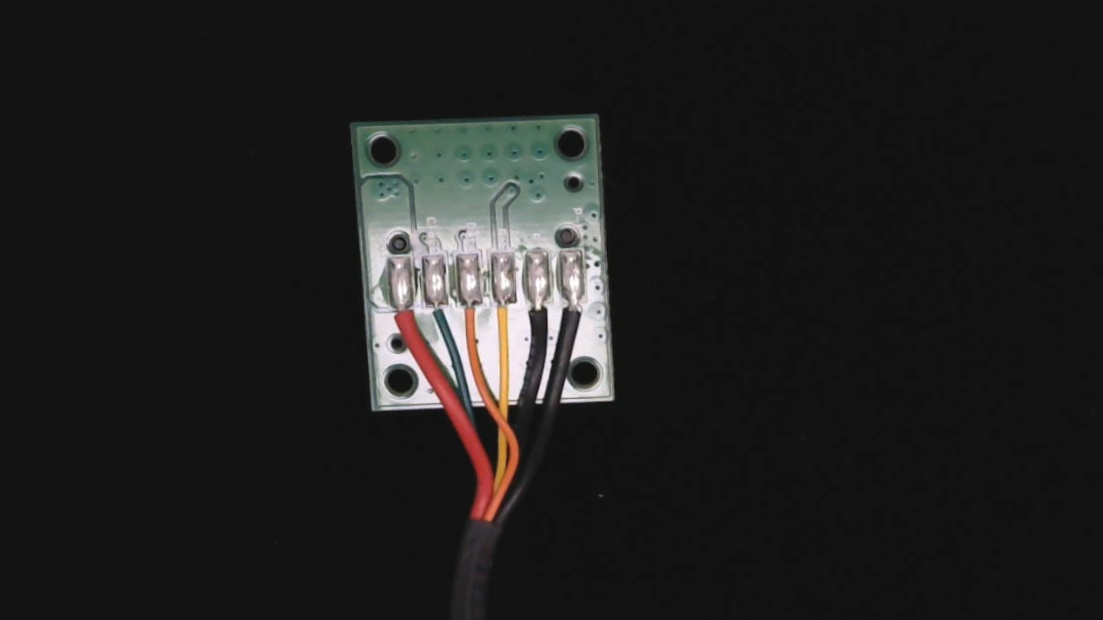Black: (510, 288, 540, 352)
Black1: (547, 285, 576, 343)
Green: (413, 290, 439, 341)
Orange: (447, 292, 473, 353)
Red: (379, 293, 408, 354)
Yellow: (479, 290, 509, 354)
